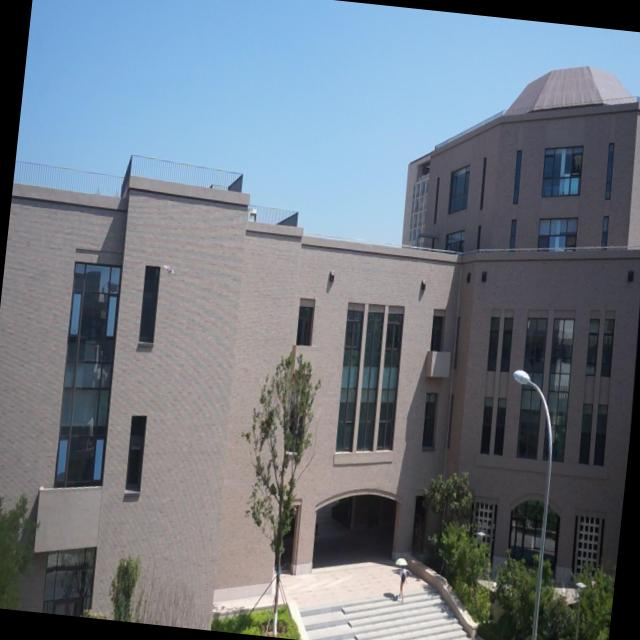drone: (160, 259, 180, 283)
